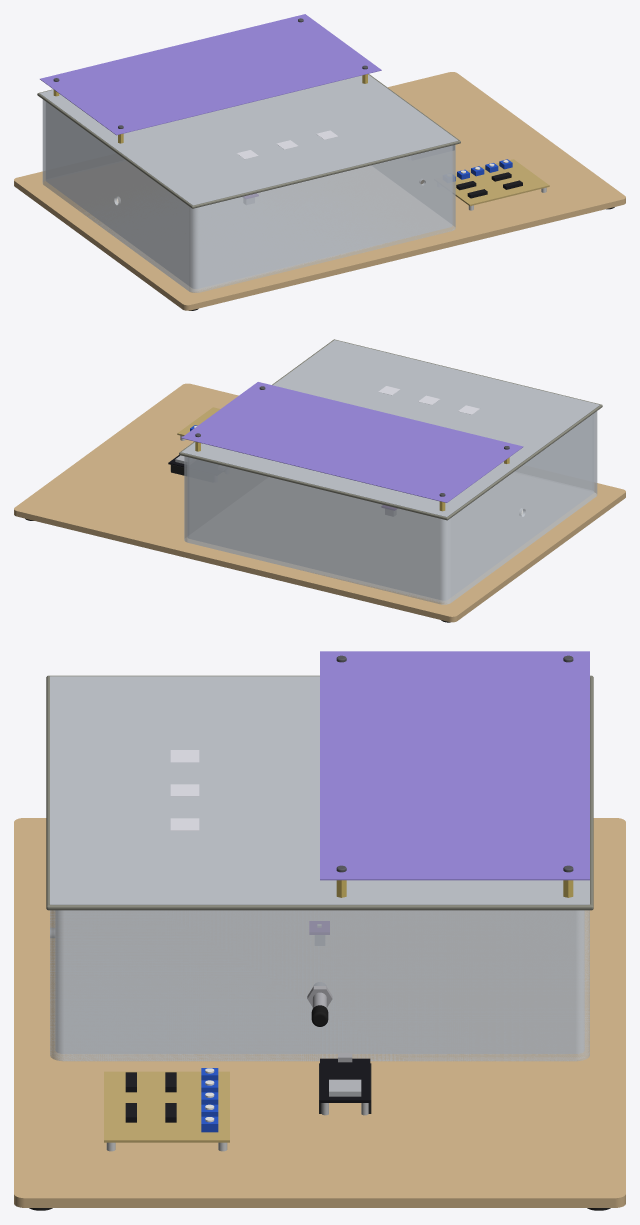
Rendered from hullsense_rig.glb.
3 views of the same model, one above another, from view 1: azimuth 30°, elevation 25°; view 2: azimuth 150°, elevation 25°; view 3: azimuth 270°, elevation 25° (orthographic). The views are drawn at different scales.
Visible parts, largest first — view 1: sealed_box_8L, base_board, wall_plate_1mm_Al, bumper_0p5mm_Al, perfboard, seal_bead_mseal, ic_dip14, trimpot; view 2: sealed_box_8L, base_board, wall_plate_1mm_Al, bumper_0p5mm_Al, seal_bead_mseal; view 3: base_board, sealed_box_8L, wall_plate_1mm_Al, bumper_0p5mm_Al, perfboard, seal_bead_mseal, esp32_board, foil_patches, trimpot, ic_dip14.
Part boxes in pixels (x1,y1,x2,y2): sealed_box_8L: (42, 99, 455, 292); base_board: (14, 72, 625, 310); wall_plate_1mm_Al: (40, 74, 457, 205); bumper_0p5mm_Al: (40, 14, 381, 135); perfboard: (453, 159, 549, 205); seal_bead_mseal: (37, 74, 460, 208); ic_dip14: (456, 172, 522, 198); trimpot: (453, 159, 512, 181); sealed_box_8L: (184, 411, 597, 604); base_board: (14, 383, 625, 622); wall_plate_1mm_Al: (181, 340, 599, 516); bumper_0p5mm_Al: (181, 382, 523, 502); seal_bead_mseal: (179, 339, 602, 520); base_board: (14, 818, 625, 1207); sealed_box_8L: (50, 910, 589, 1061); wall_plate_1mm_Al: (50, 676, 589, 904); bumper_0p5mm_Al: (320, 651, 589, 880); perfboard: (104, 1071, 229, 1142); seal_bead_mseal: (46, 675, 593, 910); esp32_board: (320, 1058, 370, 1102); foil_patches: (170, 750, 199, 830); trimpot: (201, 1068, 218, 1132); ic_dip14: (125, 1072, 176, 1122).
Bounding box in the file's own units: 500 × 124 × 340.
